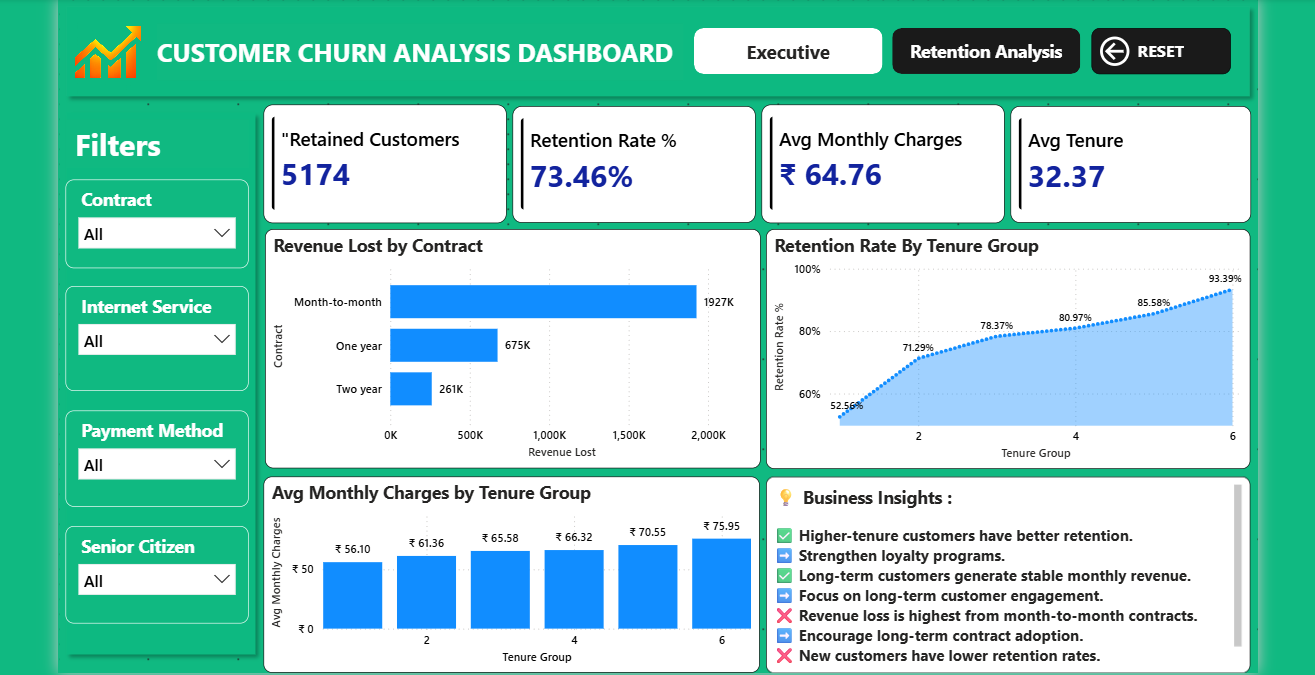

This screenshot's page, from the dashboard's own definition file:
{"tool":"powerbi","page":{"name":"Retention Analysis","canvas":[1280,720],"ordinal":1},"visuals":[{"type":"cardVisual","fields":{"Data":["Customer_churn.\"Retained Customers"]},"box":[219.2,113.6,259.2,126.4],"z":0},{"type":"shape","box":[0,113.6,219.2,595.2],"z":1000},{"type":"cardVisual","fields":{"Data":["Customer_churn.Retention Rate"]},"box":[484.8,115.2,259.2,124.8],"z":2000},{"type":"cardVisual","fields":{"Data":["Customer_churn.Avg Monthly Charges"]},"box":[750.4,113.6,259.2,126.4],"z":3000},{"type":"cardVisual","fields":{"Data":["Customer_churn.Avg Tenure"]},"box":[1015.4,115.4,256.9,124.6],"z":4000},{"type":"shape","box":[0,0,1280,113.6],"z":5000},{"type":"slicer","fields":{"Values":["Customer_churn.Contract"]},"box":[8,193.6,195.2,94.4],"z":6000},{"type":"slicer","fields":{"Values":["Customer_churn.Internet  Service"]},"box":[8,307.2,195.2,112],"z":7000},{"type":"slicer","fields":{"Values":["Customer_churn.Payment Method"]},"box":[8,440,195.2,102.4],"z":8000},{"type":"slicer","fields":{"Values":["Customer_churn.Senior Citizen"]},"box":[8,563.2,195.2,104],"z":9000},{"type":"shape","box":[8,129.6,195.2,51.2],"z":10000},{"type":"stackedAreaChart","title":"Retention Rate By Tenure Group","fields":{"Category":["Customer_churn.Tenure Sort"],"Y":["Customer_churn.Retention Rate"]},"box":[755.4,246.2,516.9,256.2],"z":11000},{"type":"clusteredBarChart","fields":{"Y":["Customer_churn.Revenue Lost"],"Category":["Customer_churn.Contract"]},"box":[220.7,247.1,528.6,255],"z":13000},{"type":"clusteredColumnChart","title":"Avg Monthly Charges by Tenure Group","fields":{"Y":["Customer_churn.Avg Monthly Charges"],"Category":["Customer_churn.Tenure Sort"]},"box":[219.2,510.4,529.6,209.6],"z":14000},{"type":"pageNavigator","box":[678.4,32,412.8,49.6],"z":15000},{"type":"actionButton","box":[1102.4,32,148.8,49.6],"z":16000},{"type":"textbox","box":[755.4,510,516.9,210],"z":17000},{"type":"shape","box":[105.6,27.2,561.6,60.8],"z":18000},{"type":"image","box":[0,12.8,89.6,89.6],"z":19000}]}

Visuals, with their boxes on the page's 1280x720 design canvas (x1, y1, x2, y2). These are canvas units, not pixel positions in the 1315x675 screenshot, which may show the page scaled, cropped or inside an application window:
cardVisual - Customer_churn."Retained Customers: BBox(219, 114, 478, 240)
shape: BBox(0, 114, 219, 709)
cardVisual - Customer_churn.Retention Rate: BBox(485, 115, 744, 240)
cardVisual - Customer_churn.Avg Monthly Charges: BBox(750, 114, 1010, 240)
cardVisual - Customer_churn.Avg Tenure: BBox(1015, 115, 1272, 240)
shape: BBox(0, 0, 1280, 114)
slicer - Customer_churn.Contract: BBox(8, 194, 203, 288)
slicer - Customer_churn.Internet  Service: BBox(8, 307, 203, 419)
slicer - Customer_churn.Payment Method: BBox(8, 440, 203, 542)
slicer - Customer_churn.Senior Citizen: BBox(8, 563, 203, 667)
shape: BBox(8, 130, 203, 181)
"Retention Rate By Tenure Group" stackedAreaChart: BBox(755, 246, 1272, 502)
clusteredBarChart - Customer_churn.Revenue Lost x Customer_churn.Contract: BBox(221, 247, 749, 502)
"Avg Monthly Charges by Tenure Group" clusteredColumnChart: BBox(219, 510, 749, 720)
pageNavigator: BBox(678, 32, 1091, 82)
actionButton: BBox(1102, 32, 1251, 82)
textbox: BBox(755, 510, 1272, 720)
shape: BBox(106, 27, 667, 88)
image: BBox(0, 13, 90, 102)
